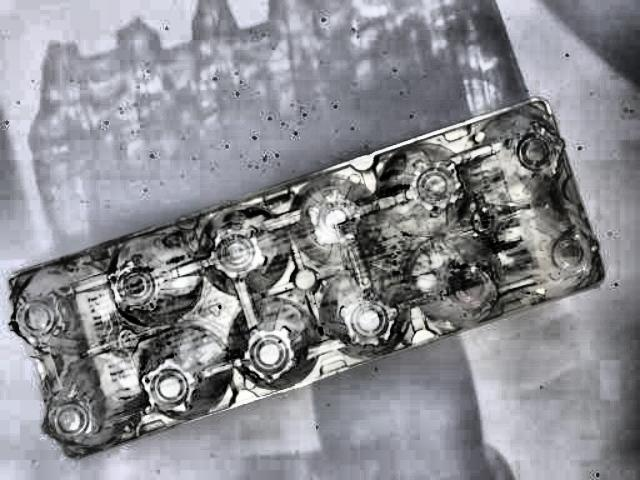Plastic: (31, 87, 618, 457)
